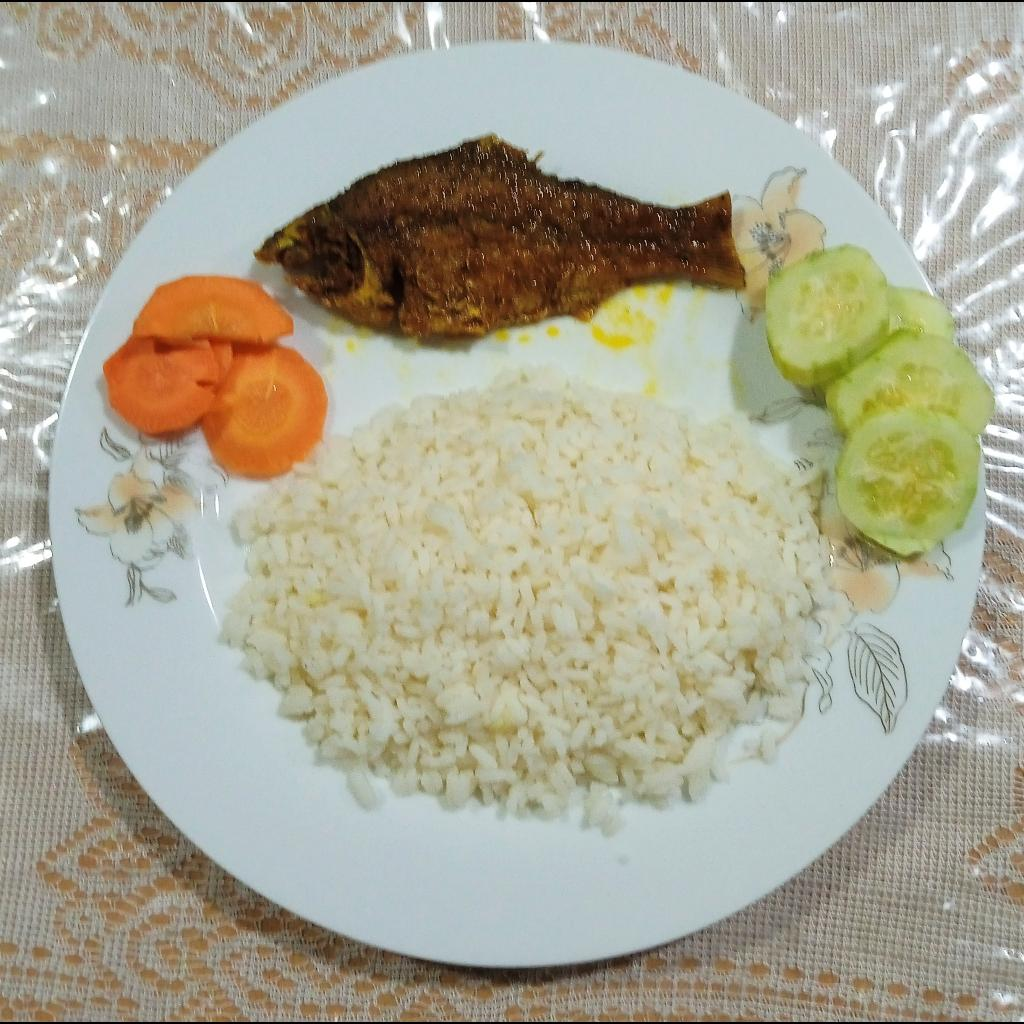carrot: (97, 276, 331, 487)
cucumber: (761, 246, 1002, 558)
fish: (255, 135, 753, 339)
rice: (215, 369, 846, 835)
